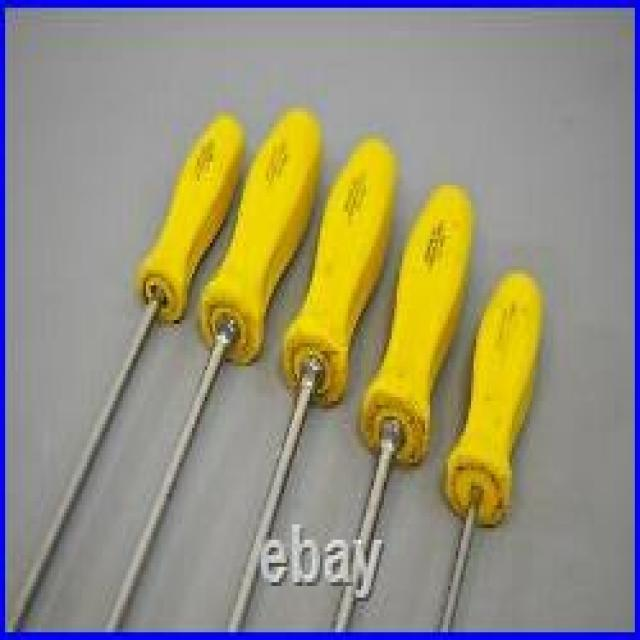screwdriver: (9, 111, 251, 634), (97, 103, 331, 635), (218, 130, 408, 638), (324, 176, 482, 636), (428, 264, 554, 634)
